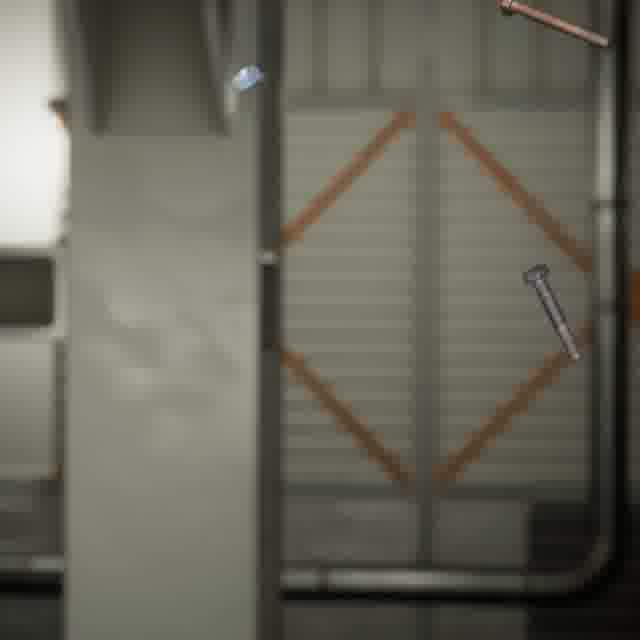bolt: (517, 259, 586, 365), (495, 0, 615, 54)
nut: (227, 60, 267, 95)
